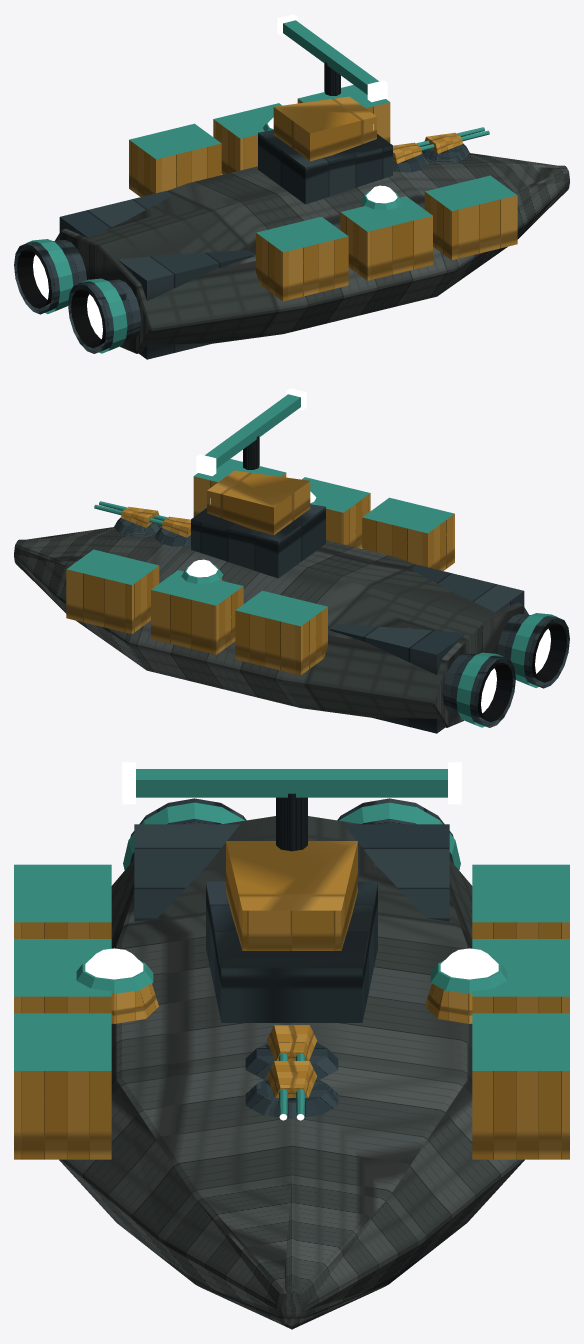
The model's file is command_ship.glb.
3 renders of one model, top to bottom at view 1: azimuth 30°, elevation 25°; view 2: azimuth 150°, elevation 25°; view 3: azimuth 270°, elevation 25°, orthographic. The views are drawn at different scales.
Visible parts, largest first — view 1: hull_body, engine_block, sensor_tower, weapon_turrets, shield_domes; view 2: hull_body, engine_block, sensor_tower, weapon_turrets, shield_domes; view 3: hull_body, sensor_tower, engine_block, shield_domes, weapon_turrets.
Part boxes in pixels (x1,y1,x2,y2): hull_body: (55, 85, 569, 353); engine_block: (14, 191, 253, 359); sensor_tower: (258, 14, 392, 204); weapon_turrets: (393, 127, 489, 172); shield_domes: (263, 117, 402, 209); hull_body: (14, 459, 528, 727); engine_block: (330, 565, 569, 733); sensor_tower: (191, 388, 325, 578); weapon_turrets: (94, 501, 190, 546); shield_domes: (181, 491, 320, 583); hull_body: (14, 816, 569, 1329); sensor_tower: (122, 762, 461, 1022); engine_block: (123, 798, 460, 921); shield_domes: (76, 948, 507, 1023); weapon_turrets: (245, 1025, 338, 1120).
Bounding box in the file's own units: 56 × 25.2 × 29.48.
Materials: 1 (1 with a texture image).
